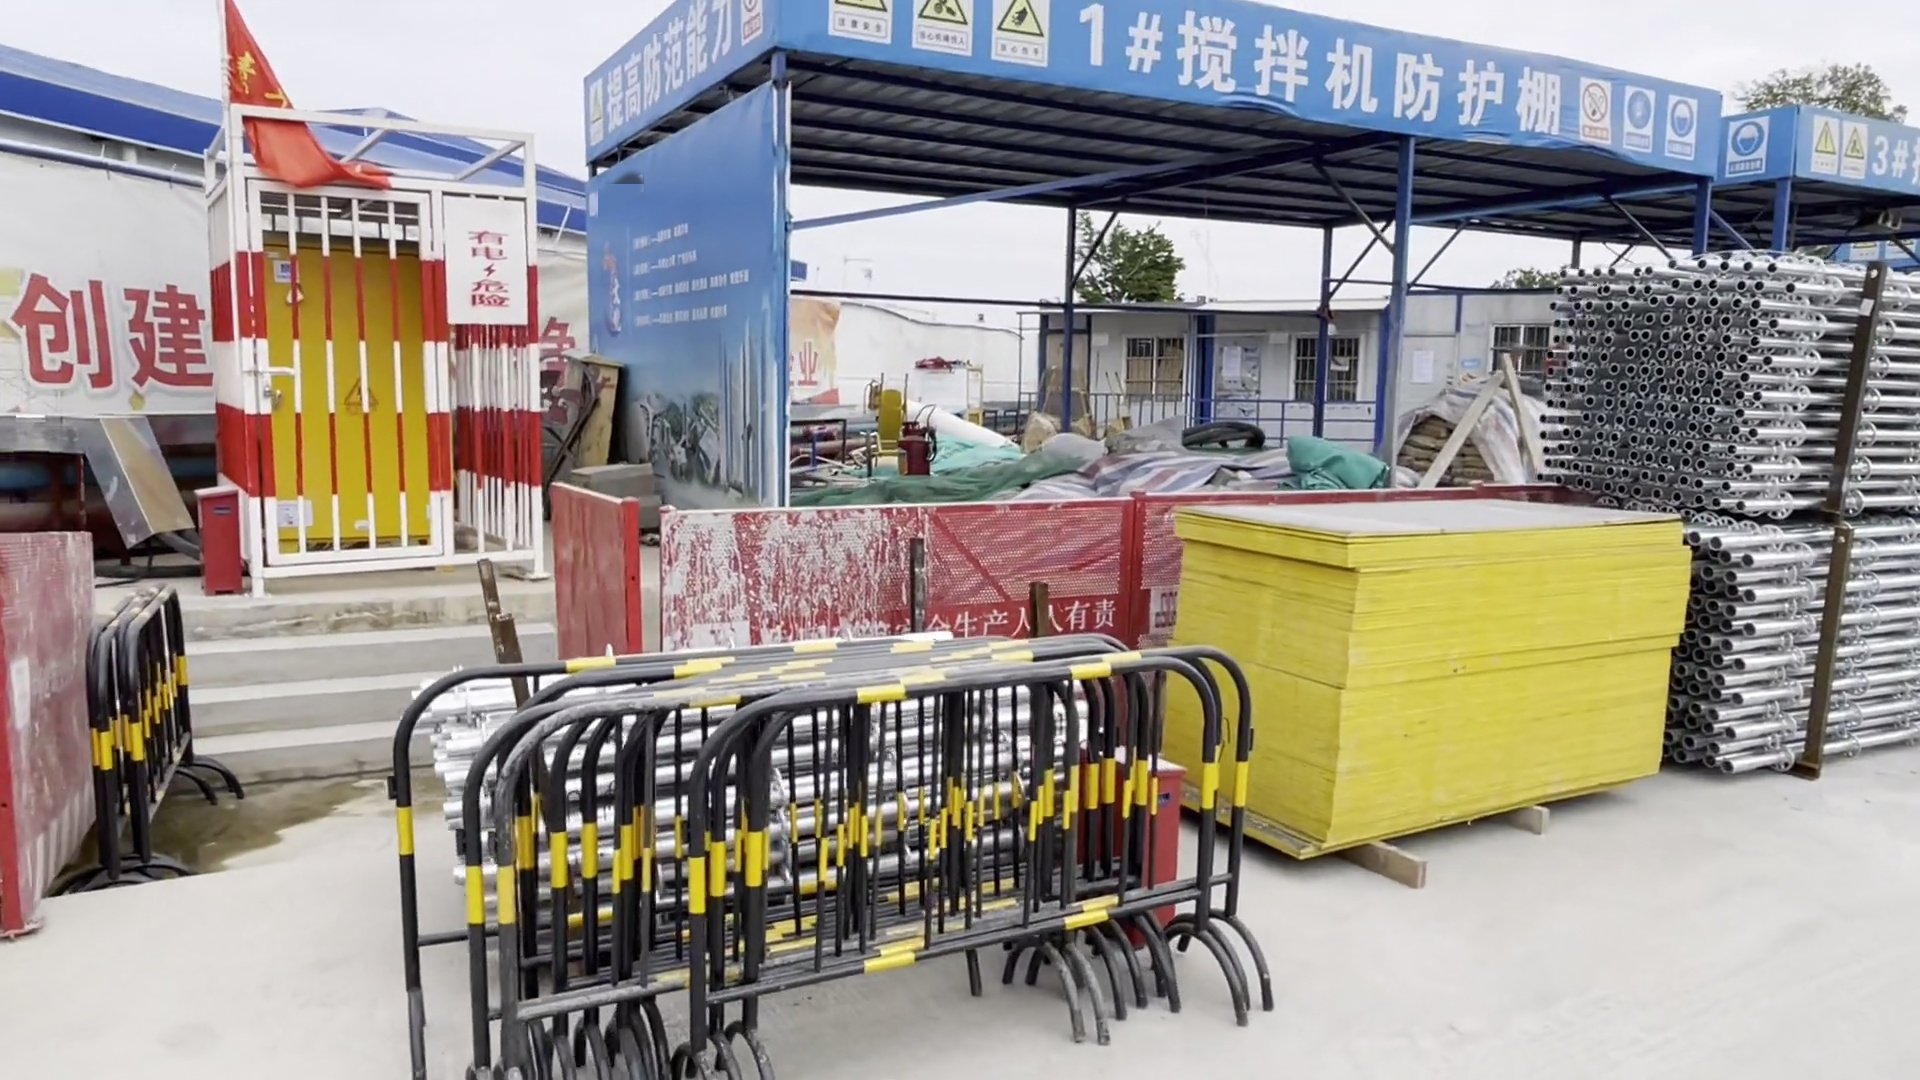board: (1154, 479, 1655, 876)
ebox: (257, 240, 443, 541)
fence: (522, 687, 1261, 1035), (612, 480, 1151, 670), (96, 605, 222, 847)
scaffold: (1524, 269, 1920, 757)
slogan: (1549, 62, 1853, 200), (16, 264, 222, 421), (574, 1, 789, 140), (824, 1, 1054, 80)
